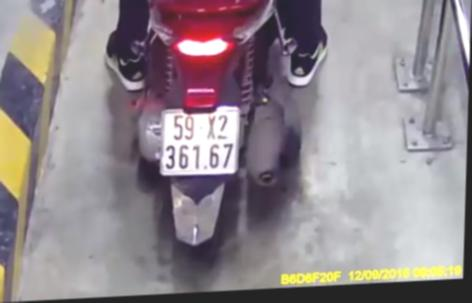License_Plate: (155, 102, 246, 184)
